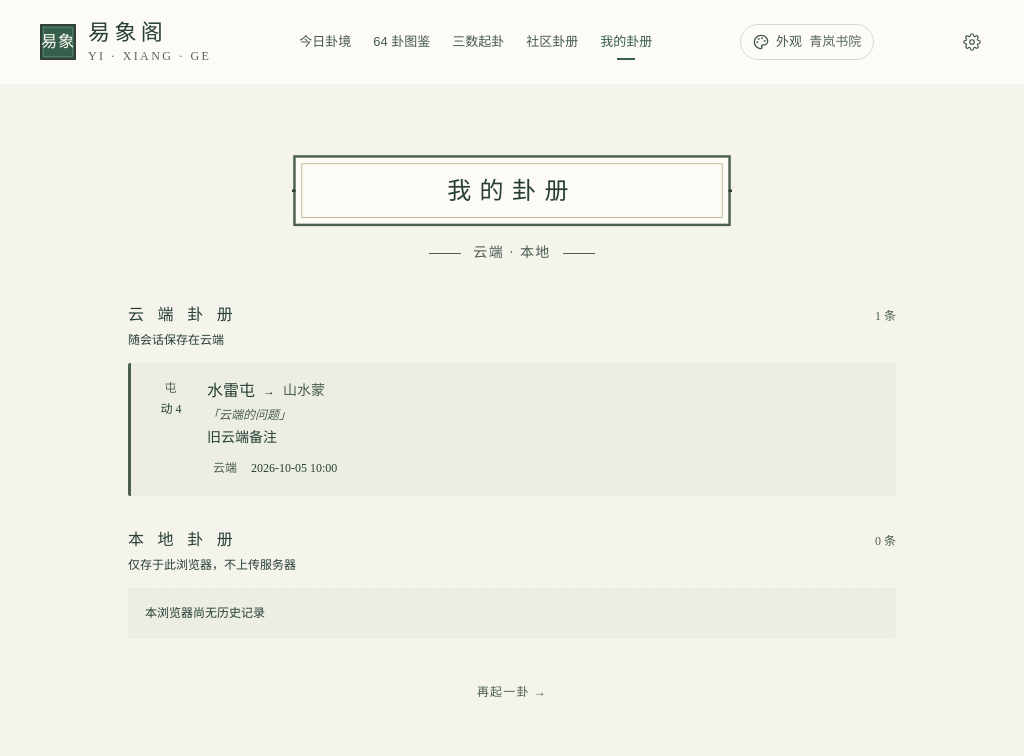
Scenario: Records page › saves a note on a cloud record through the Worker API
This screenshot has width=1024, height=756.
Click the button "水雷屯" at (231, 390), box [128, 362, 896, 496]
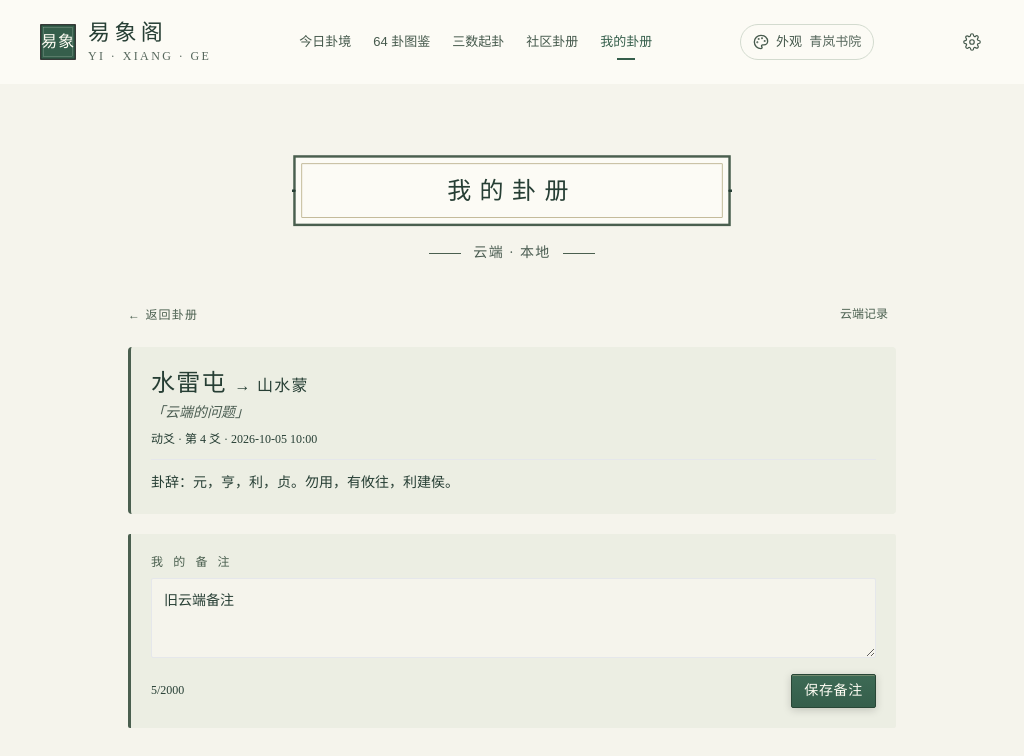
Replace the text in the text box labelled "我 的 备 注" with "新的云端备注" at (514, 618), box [151, 578, 876, 658]
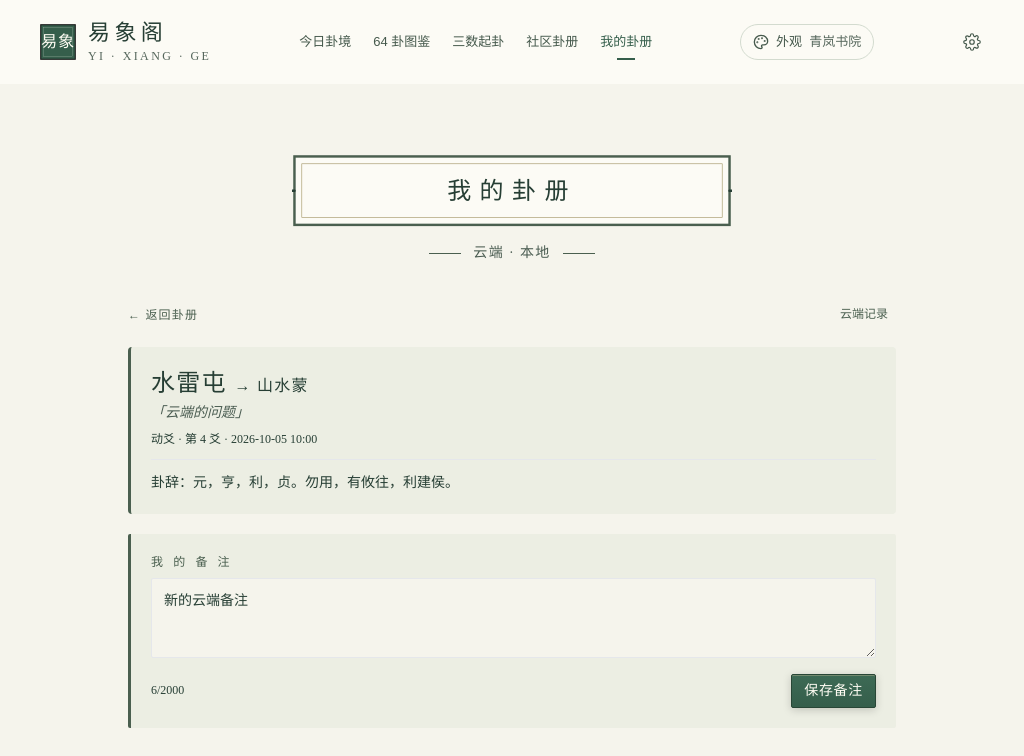
Click the button "保存备注" at (834, 691), box [791, 674, 876, 708]
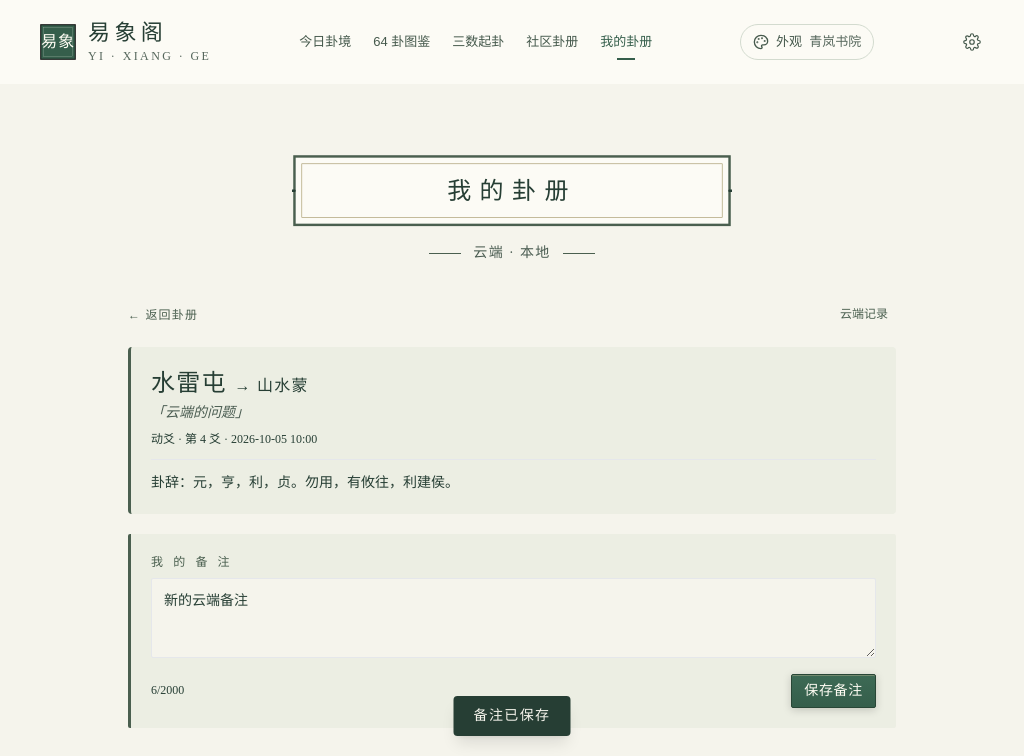
Result: the text "备注已保存" is shown at [454, 696, 570, 736]
